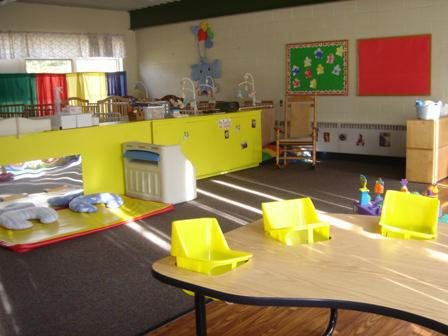Otro Obstaculo: (2, 193, 174, 250), (118, 139, 203, 207)
